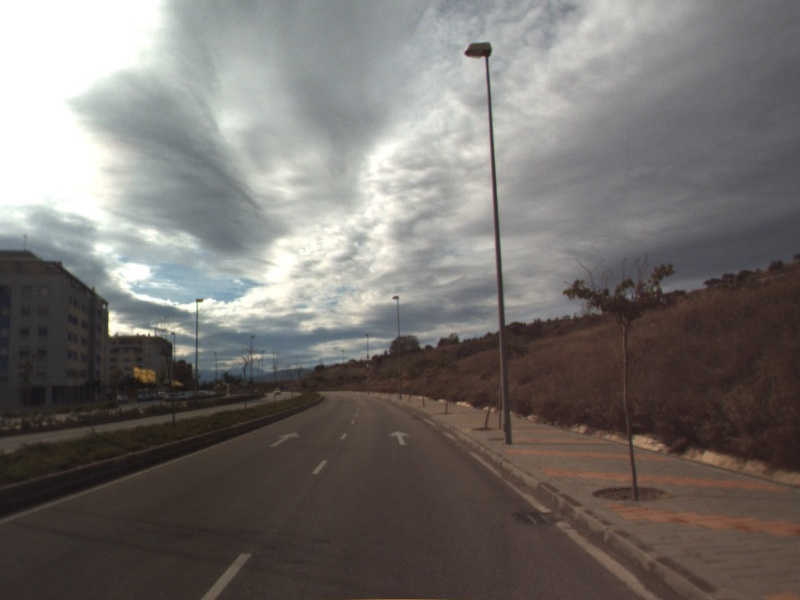STRAIGHT: (267, 429, 302, 449), (387, 429, 413, 447)
